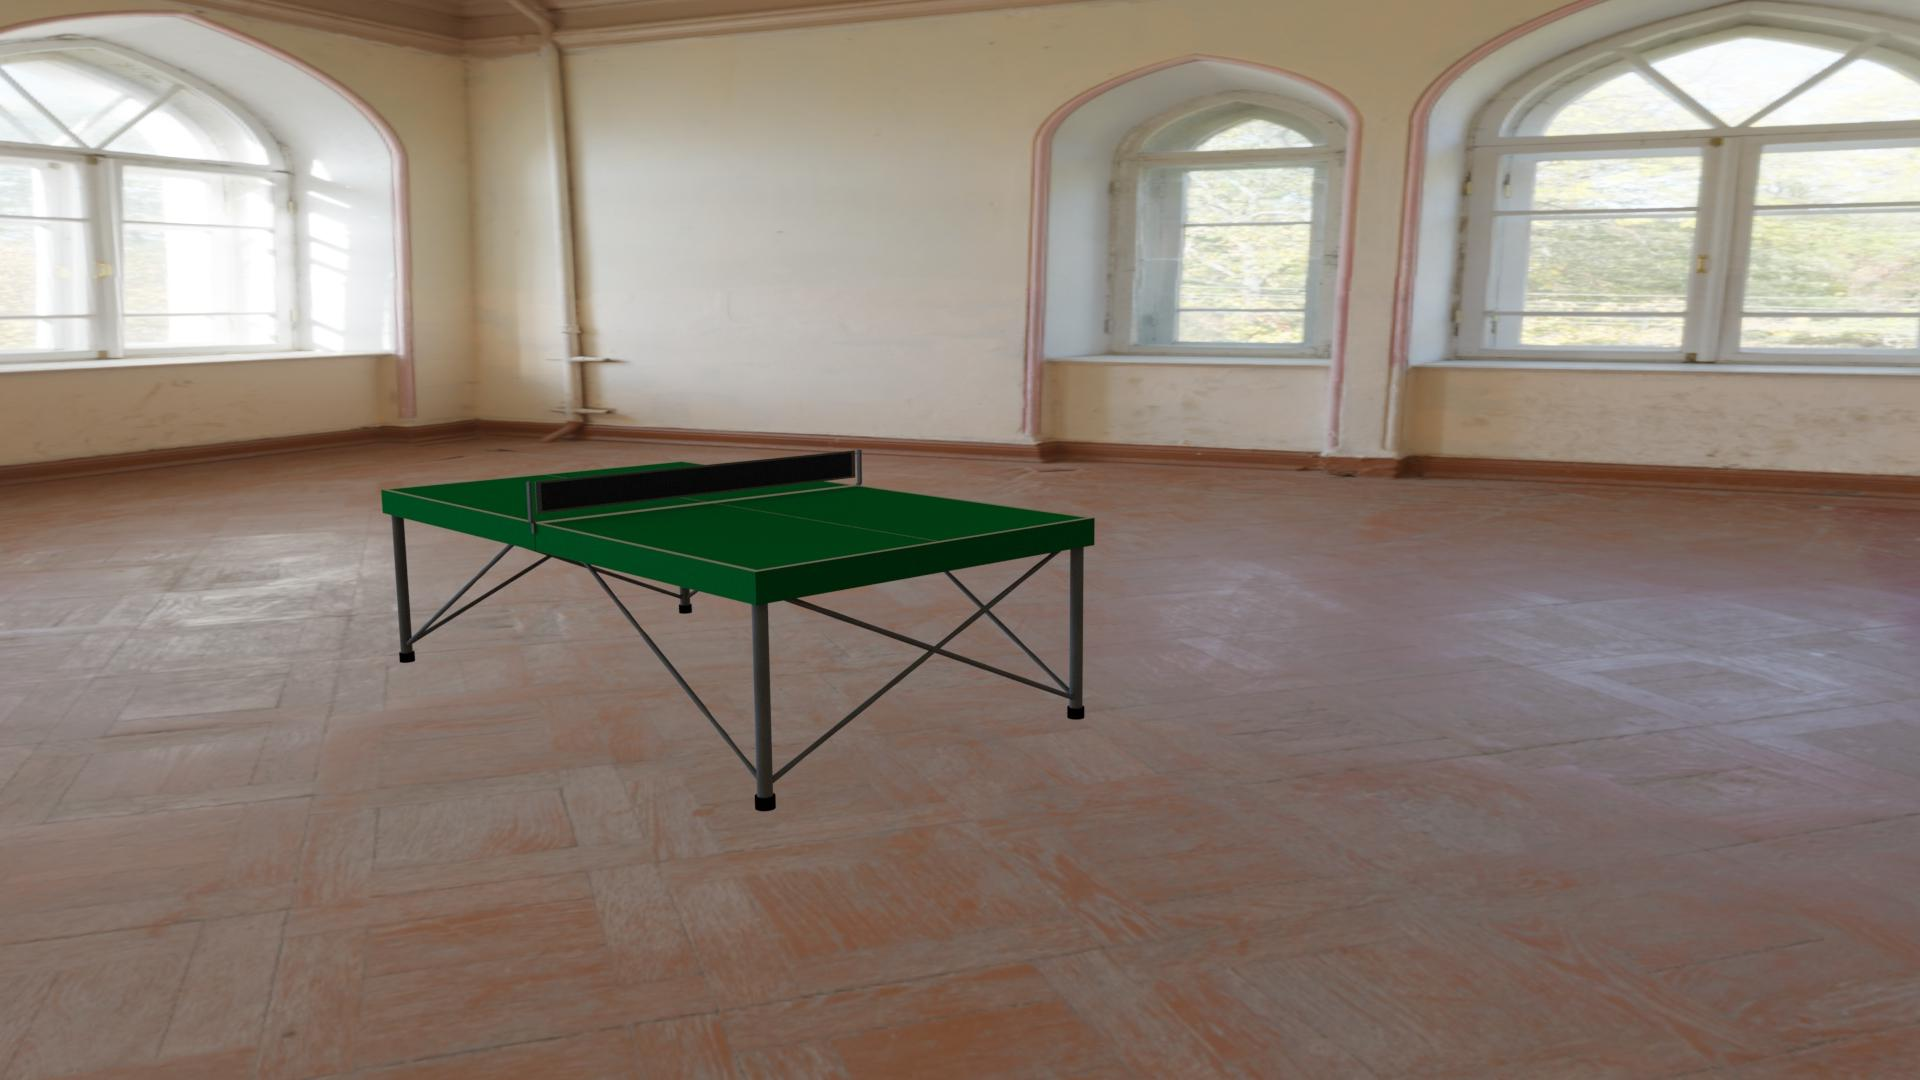table: (388, 462, 1087, 570)
